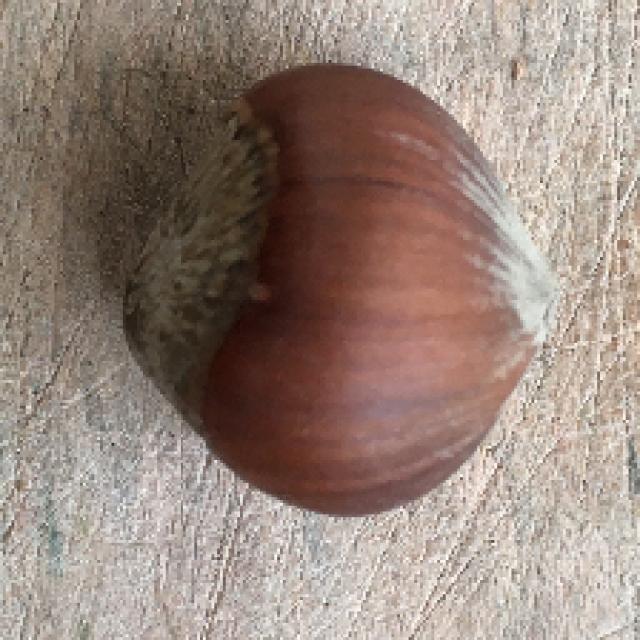qualityHazelnut: (120, 54, 572, 542)
